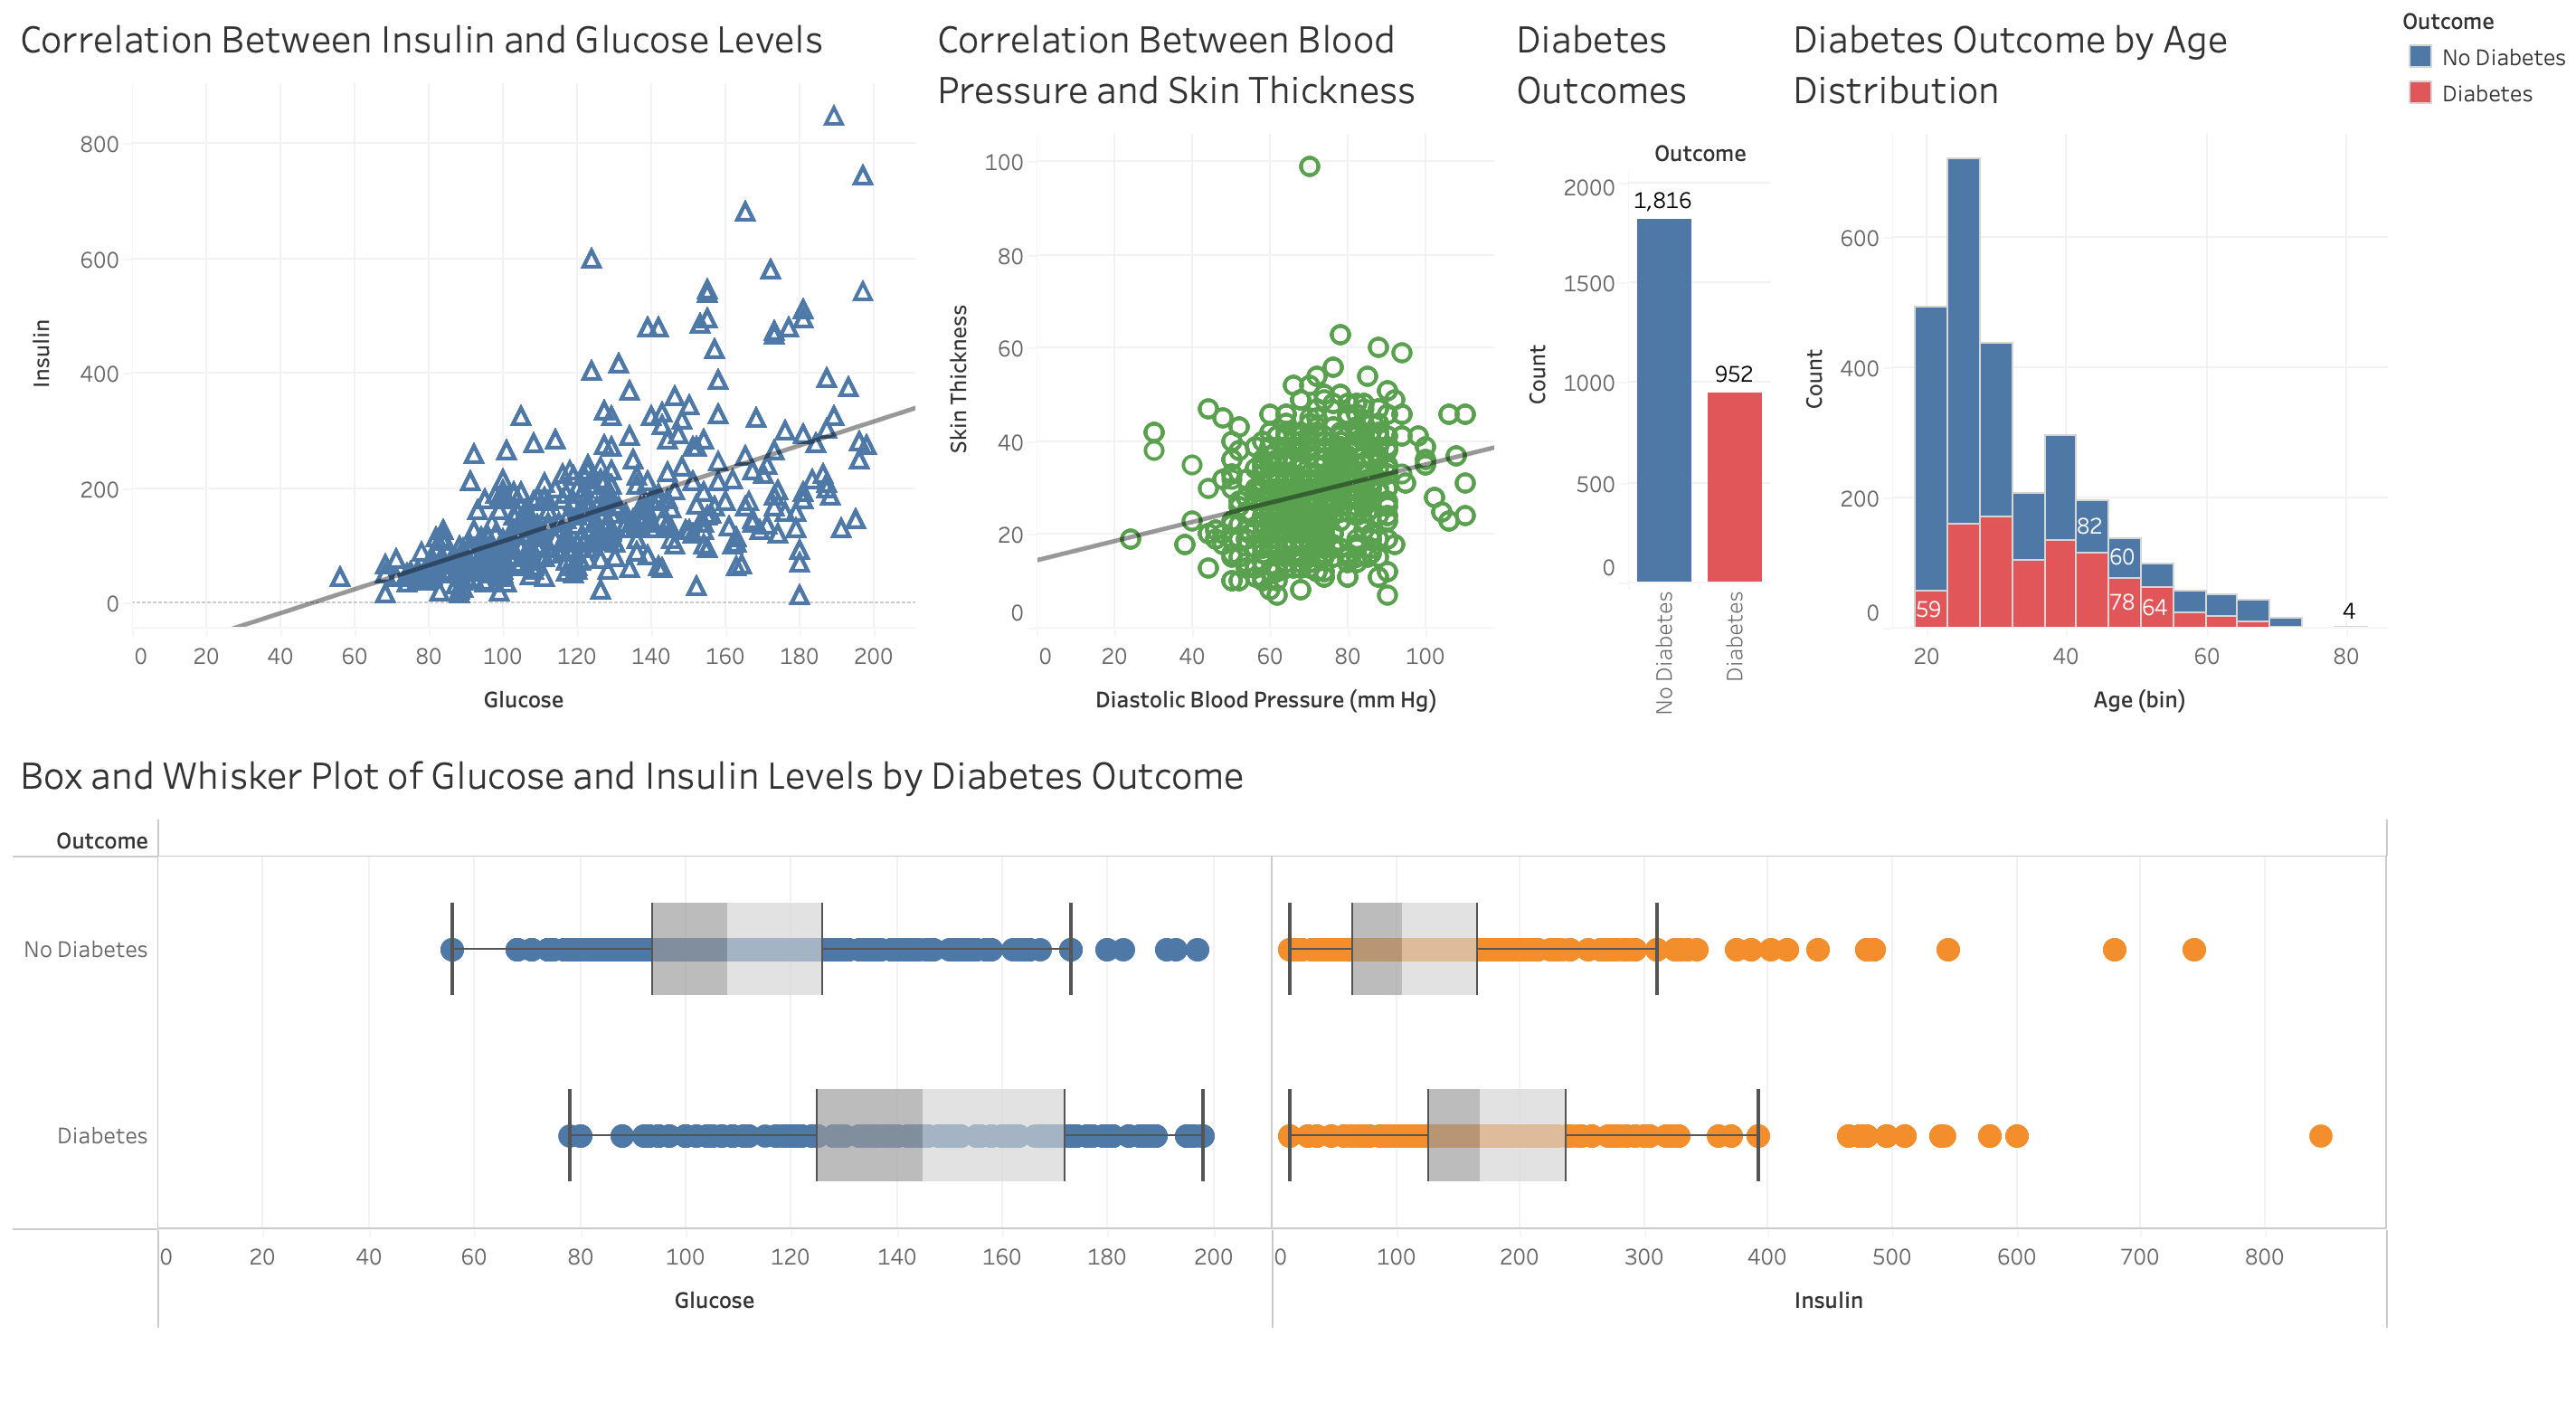

What the dashboard file says about the page in this screenshot:
{"tool":"tableau","page":{"name":"Dashboard 1","canvas":[1000,1000],"units":"permille","ordinal":0},"visuals":[{"type":"worksheet","title":"Sheet 1","mark":"Automatic","rows":["Insulin"],"cols":["Glucose"],"box":[6.5,11.9,357.3,488.1]},{"type":"worksheet","title":"Sheet 2","mark":"Automatic","rows":["SkinThickness"],"cols":["BloodPressure"],"box":[363.8,11.9,218.8,488.1]},{"type":"worksheet","title":"Sheet 4","mark":"Automatic","rows":["Healthcare-Diabetes.csv_5E00ED8460264BED8D4ED365AD5070C2"],"cols":["Outcome"],"box":[582.6,11.9,103.3,488.1]},{"type":"worksheet","title":"Sheet 3","mark":"Automatic","rows":["Healthcare-Diabetes.csv_5E00ED8460264BED8D4ED365AD5070C2"],"cols":["Age (bin)"],"box":[685.9,11.9,232.7,488.1]},{"type":"legend","title":"Sheet 3","param":"[federated.0v2t4t618dte4q16thqyy18lt6f8].[none:Outcome:ok]","box":[918.6,11.9,74.9,98.4]},{"type":"worksheet","title":"Sheet 5","mark":"Circle","rows":["Outcome"],"cols":["Glucose","Insulin"],"box":[6.5,500,912.1,488.1]}]}

Visuals, with their boxes on the dashboard's canvas, which has no fixed pixel size, in thousandths of its width and height (x1, y1, x2, y2). These are canvas units, not pixel positions in the 2576x1402 screenshot, which may show the page scaled, cropped or inside an application window:
"Sheet 1" worksheet: rect(6, 12, 364, 500)
"Sheet 2" worksheet: rect(364, 12, 583, 500)
"Sheet 4" worksheet: rect(583, 12, 686, 500)
"Sheet 3" worksheet: rect(686, 12, 919, 500)
"Sheet 3" legend: rect(919, 12, 994, 110)
"Sheet 5" worksheet (Circle marks): rect(6, 500, 919, 988)
